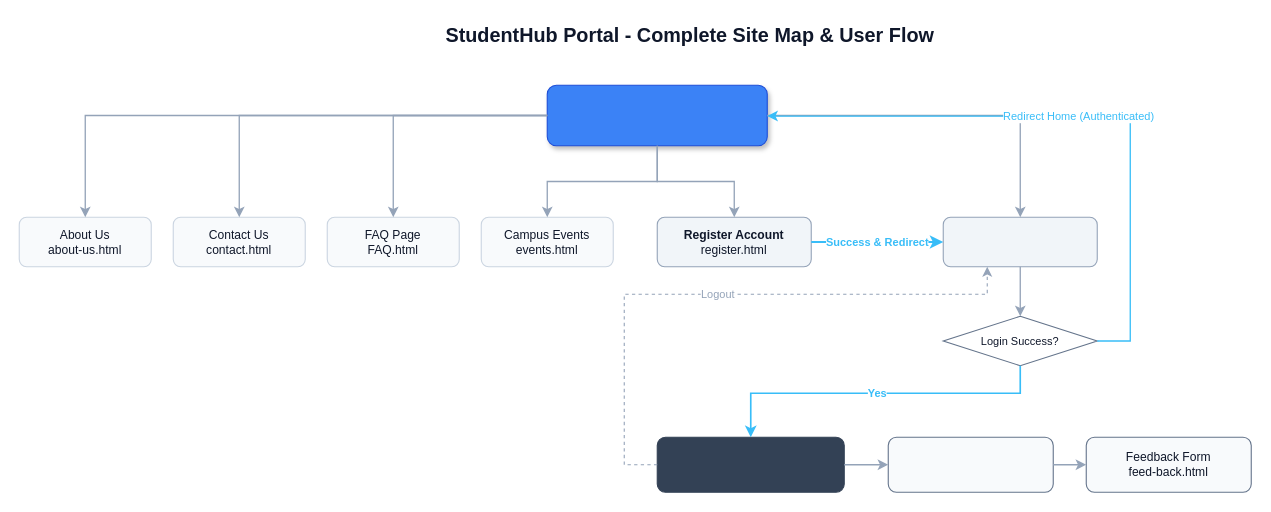
Image size: 1271x512. Some labels were removed from this diagram. The shapes that lost their labels are listed below. From the top down, each one's centre as x and y in pixels, then its label:
pixel 658 116: Home Page index.html
pixel 1019 241: Login Page login.html
pixel 750 464: Student Dashboard student-dashboard.html
pixel 970 464: Student Profile student-profile.html
